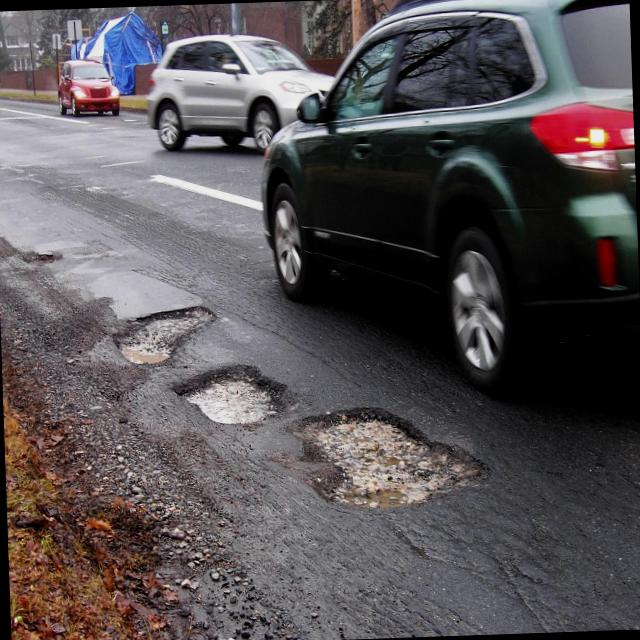bad-road: (292, 399, 488, 510), (170, 361, 287, 430), (112, 302, 218, 368), (17, 250, 58, 268)
